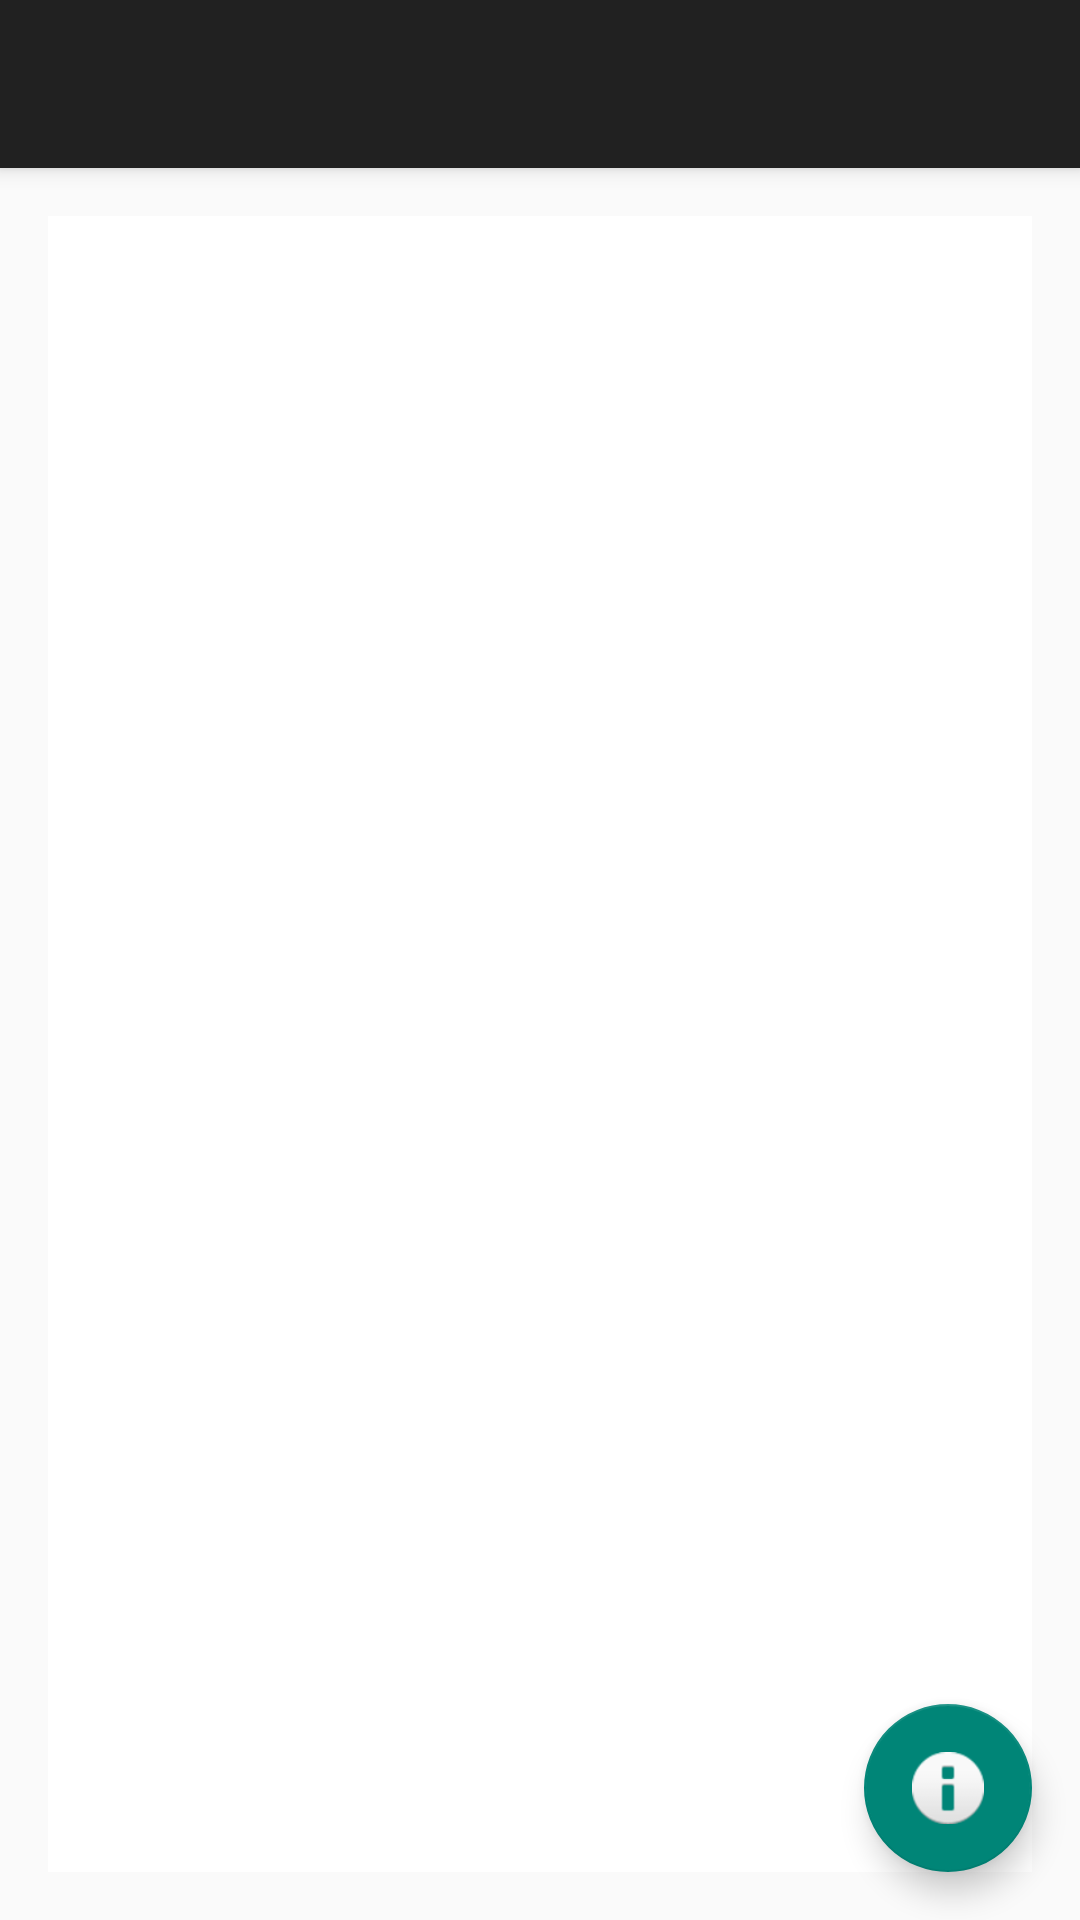

Icons on this 1080 x 1920 Android screen, each with its box as rect(x1, y1, x2, y2):
info: rect(864, 1704, 1032, 1872)
